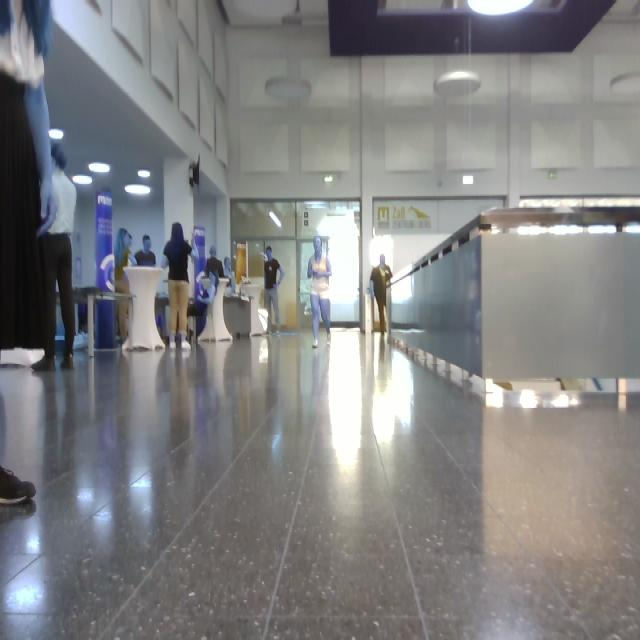light bulb: (434, 70, 481, 97), (266, 78, 311, 102), (125, 185, 151, 196), (89, 162, 110, 173), (271, 210, 281, 228), (73, 176, 93, 185), (51, 129, 64, 141), (139, 170, 149, 178)
person: (1, 1, 54, 350), (32, 145, 77, 372), (164, 223, 199, 351), (308, 237, 332, 348), (371, 256, 394, 335), (264, 248, 284, 334), (1, 466, 36, 505), (115, 229, 132, 293), (206, 248, 226, 280), (117, 300, 130, 342), (224, 257, 236, 294)
staircase: (391, 208, 640, 412), (330, 1, 616, 57)
tiled floor: (1, 331, 640, 639)
